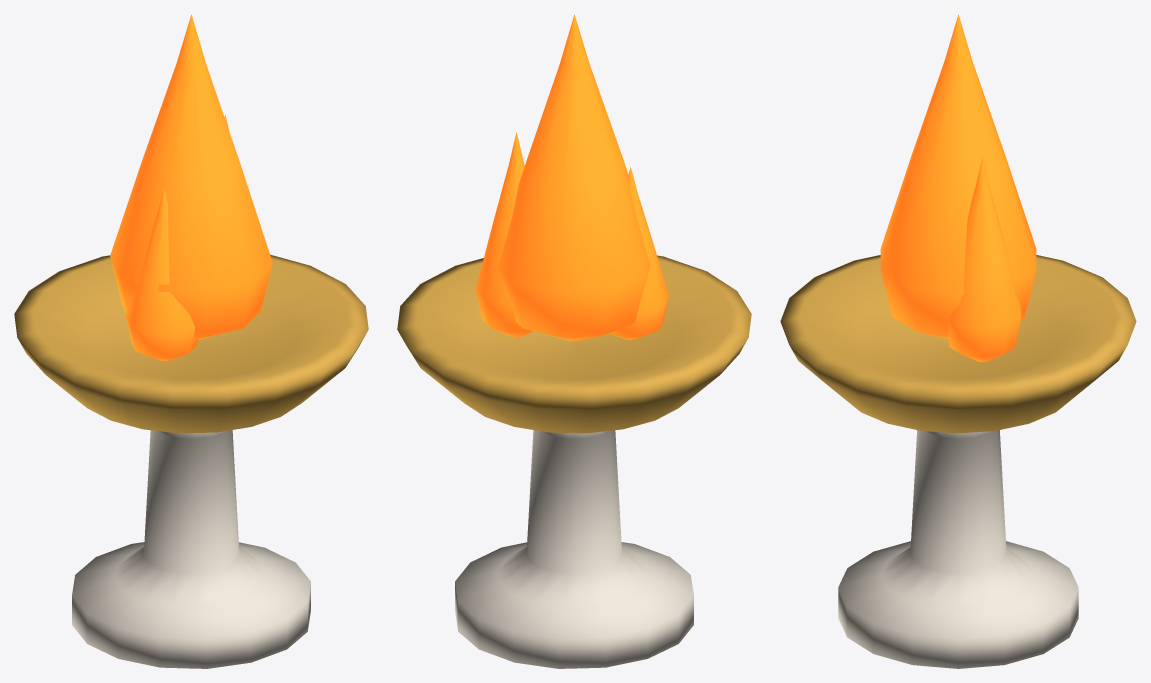
File: brazier.glb
The picture shows the model from 3 angles, left to right: view 1: azimuth 30°, elevation 25°; view 2: azimuth 150°, elevation 25°; view 3: azimuth 270°, elevation 25°; orthographic projection.
Visible parts, largest first — view 1: bowl, foot, flame0, flame3; view 2: foot, bowl, flame0, flame2, flame3; view 3: bowl, foot, flame0, flame2.
Part boxes in pixels (<box>): bowl: <box>14,254,368,433</box>; foot: <box>72,430,310,668</box>; flame0: <box>110,14,272,339</box>; flame3: <box>126,188,198,361</box>; foot: <box>455,430,693,668</box>; bowl: <box>397,255,751,433</box>; flame0: <box>498,14,650,341</box>; flame2: <box>476,132,533,337</box>; flame3: <box>608,167,668,340</box>; bowl: <box>780,255,1136,433</box>; foot: <box>838,430,1078,668</box>; flame0: <box>880,14,1036,338</box>; flame2: <box>947,157,1021,362</box>.
Size of the model in its own units: 1.48 by 2.77 by 1.48.
